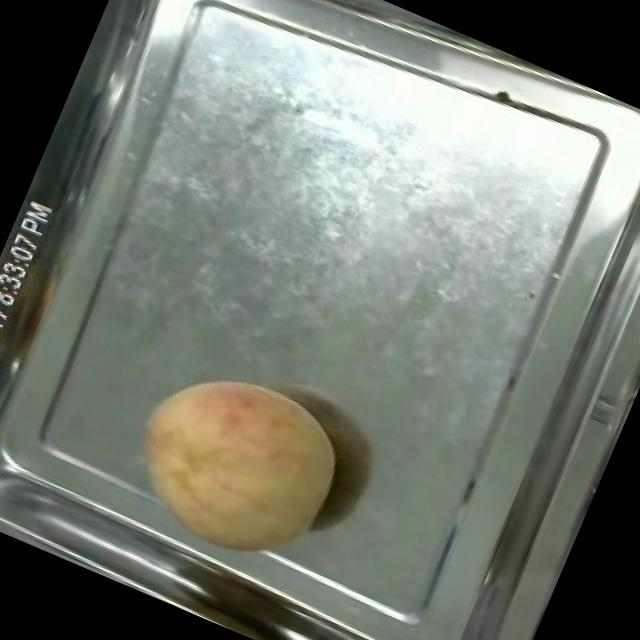Fruit: (99, 336, 367, 593)
